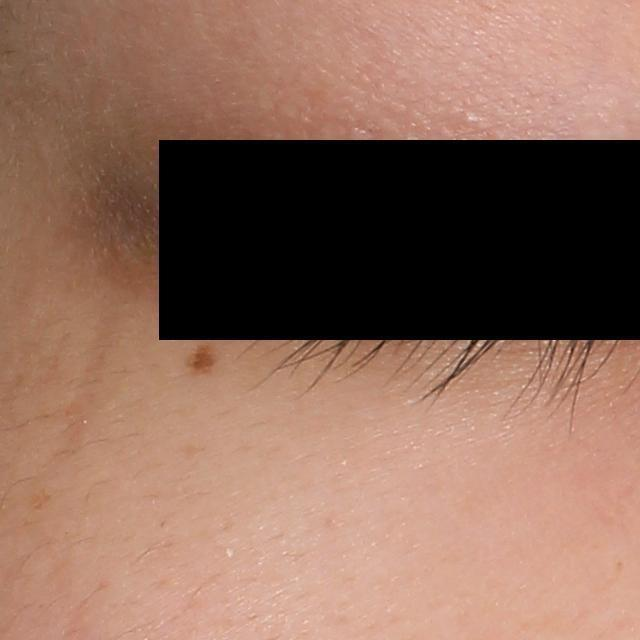nevus: (189, 339, 220, 374)
